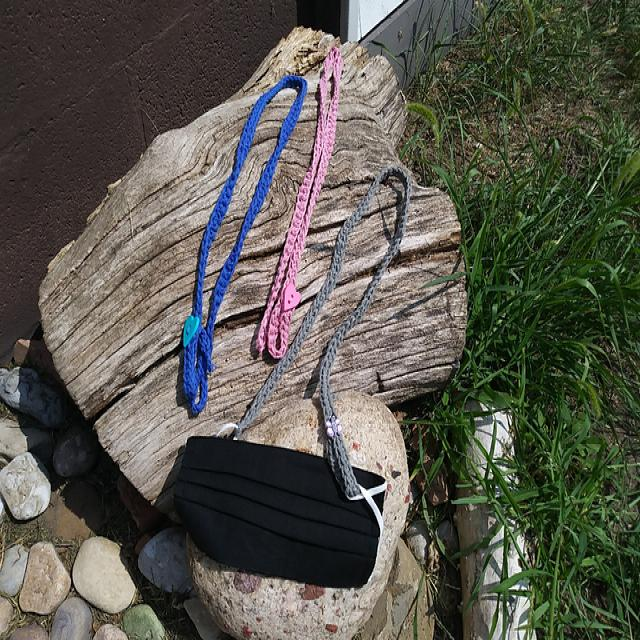non-organic waste: (170, 416, 394, 599)
